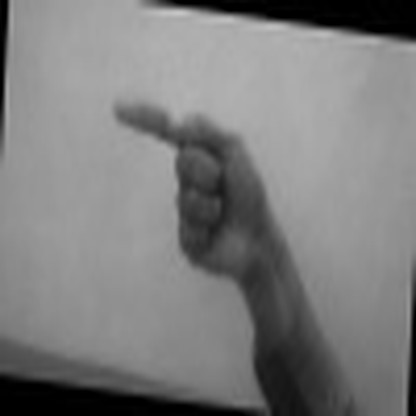g: (105, 92, 287, 277)
